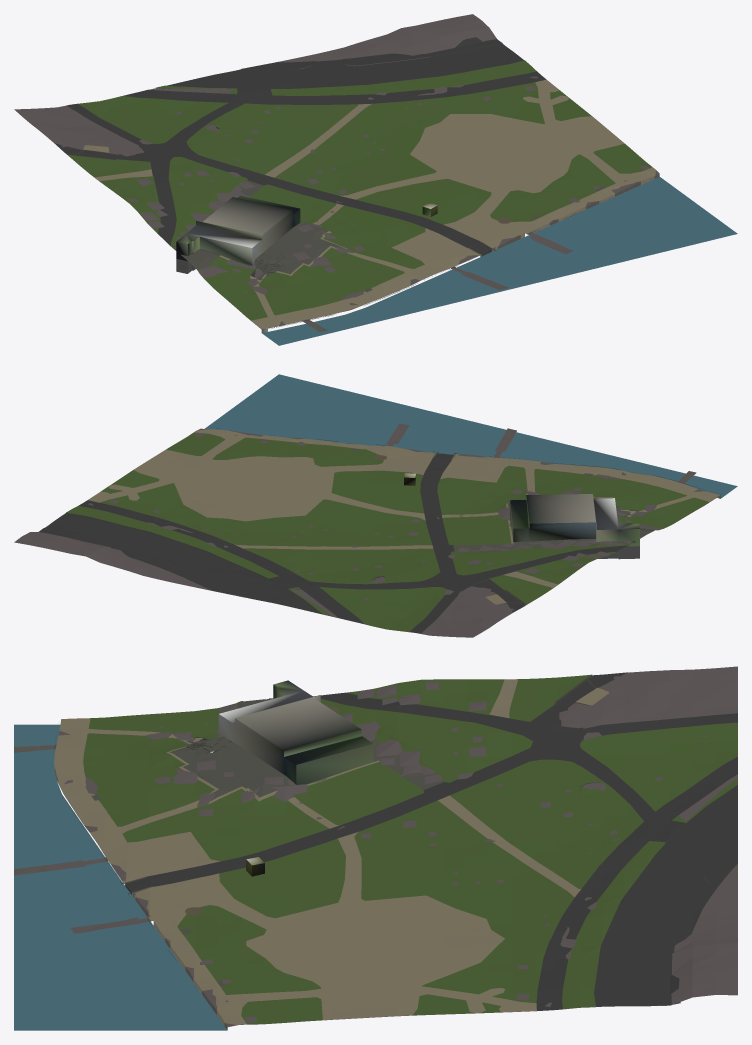
3 renders of one model, top to bottom at view 1: azimuth 30°, elevation 25°; view 2: azimuth 150°, elevation 25°; view 3: azimuth 270°, elevation 25°, orthographic. The views are drawn at different scales.
Visible parts, largest first — view 1: c_m05_m10, append:c_m05_m10; view 2: c_m05_m10; view 3: c_m05_m10.
Part boxes in pixels (x1,y1,x2,y2): c_m05_m10: (14,14,737,345); append:c_m05_m10: (261,174,659,332); c_m05_m10: (14,374,737,637); c_m05_m10: (14,666,737,1030).
Bounding box in the file's own units: 129 × 11.34 × 128.
